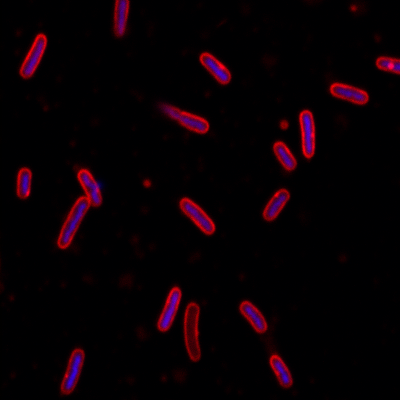Oblique: (156, 100, 210, 135), (111, 1, 130, 36)
Rifampicin: (57, 195, 91, 250), (19, 32, 48, 79), (180, 198, 215, 236), (59, 348, 86, 396), (199, 51, 232, 87), (157, 287, 182, 332), (76, 168, 102, 208), (329, 81, 369, 106), (240, 300, 267, 335), (299, 110, 316, 159), (270, 354, 293, 389), (272, 141, 297, 171), (17, 167, 33, 200)
Vesicle: (142, 178, 151, 190), (280, 120, 289, 130), (350, 5, 358, 14)
